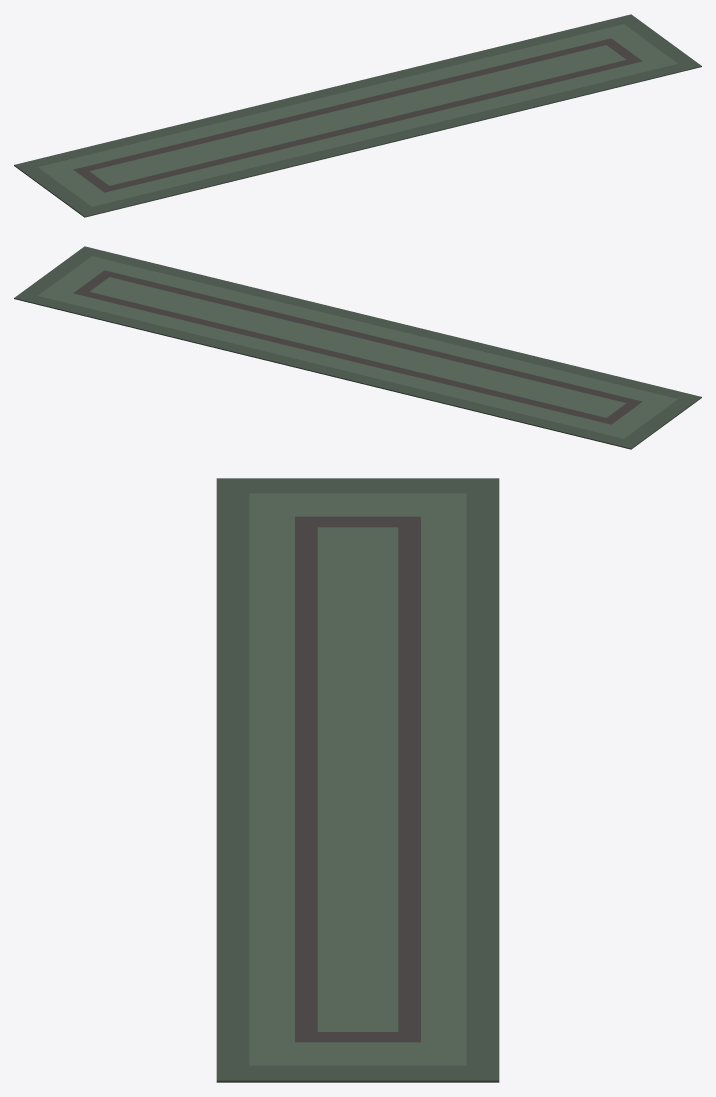
The model's file is SD_Prop_Rug_Green_Large_01.fbx.
The picture shows the model from 3 angles, top to bottom: view 1: azimuth 30°, elevation 25°; view 2: azimuth 150°, elevation 25°; view 3: azimuth 270°, elevation 25°; orthographic projection. The views are drawn at different scales.
Visible parts, largest first — view 1: SD_Prop_Rug_Green_Large_01; view 2: SD_Prop_Rug_Green_Large_01; view 3: SD_Prop_Rug_Green_Large_01.
Boxes of the visible parts, bbox=[...] form: SD_Prop_Rug_Green_Large_01: bbox=[14, 14, 701, 217]; SD_Prop_Rug_Green_Large_01: bbox=[14, 246, 701, 449]; SD_Prop_Rug_Green_Large_01: bbox=[216, 478, 499, 1082].
Size of the model in its own units: 13.25 by 0.0203 by 2.63.
